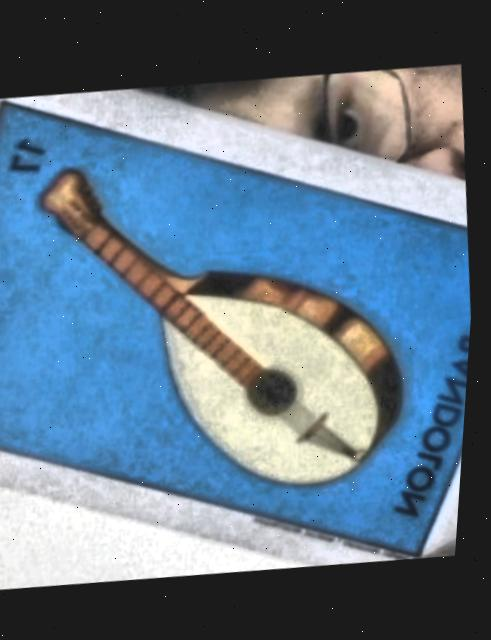El Bandolon: (0, 105, 475, 555)
